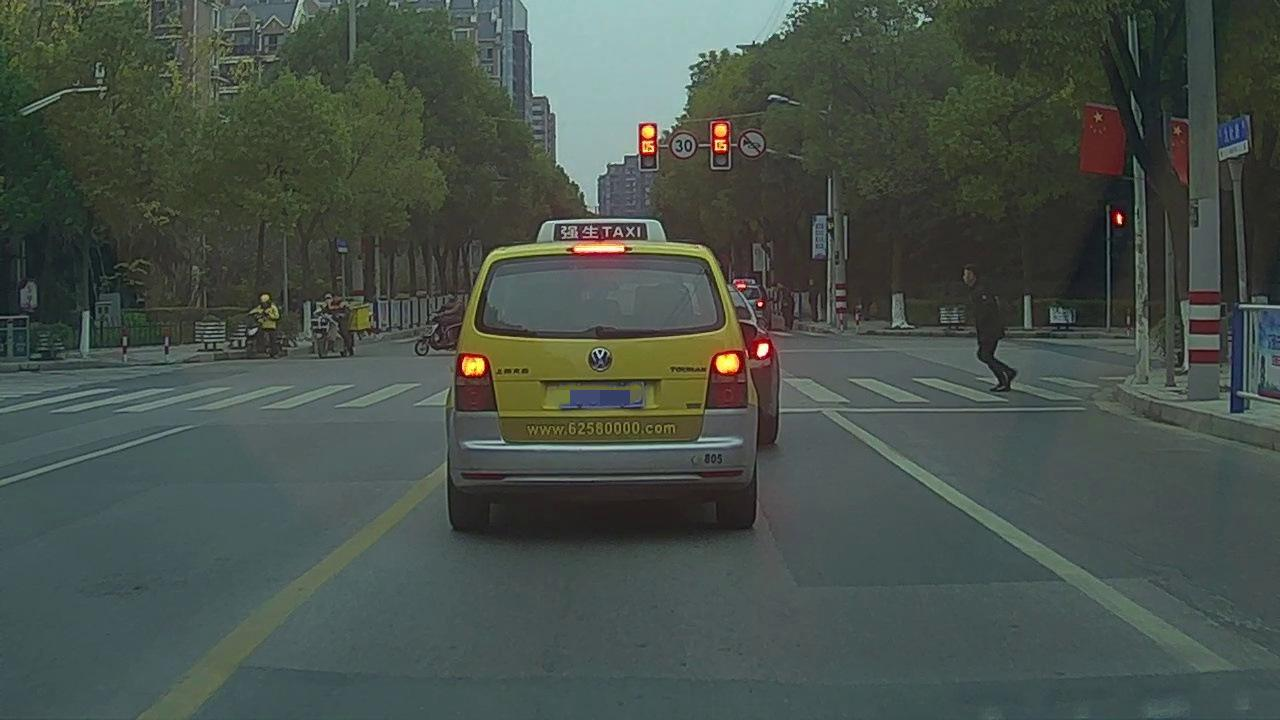traffic_light: (713, 121, 729, 169), (641, 125, 658, 169)
